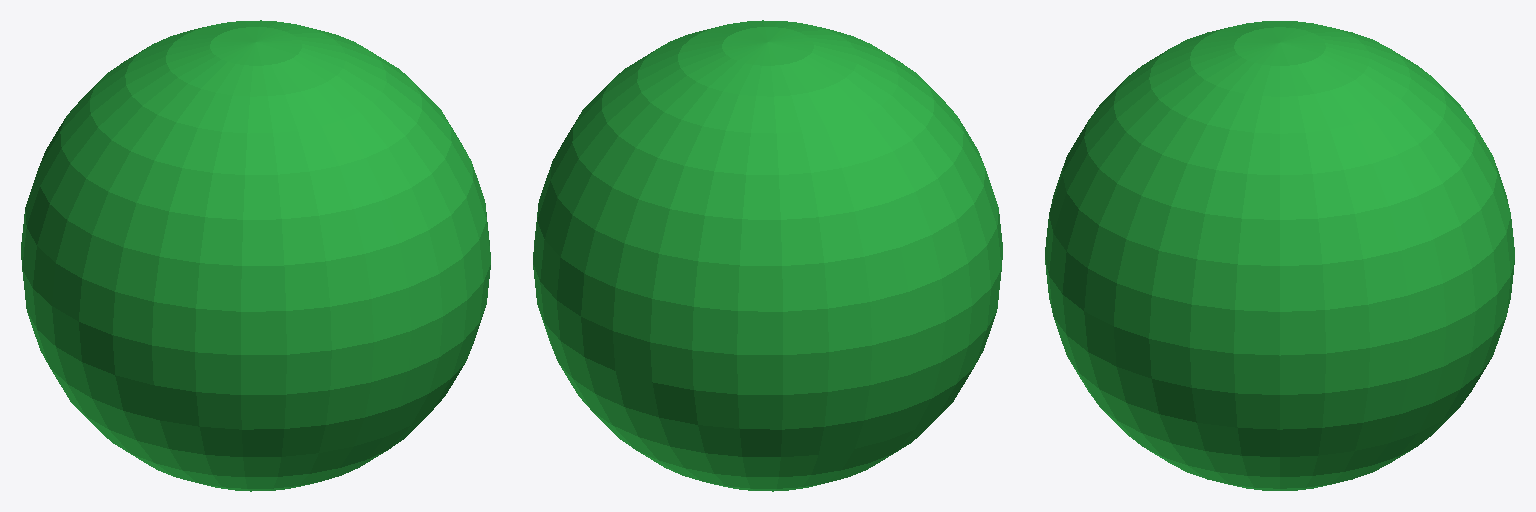
robot.urdf — ant:
<?xml version="0.0" ?>
<robot name="ant">
	<link name="torso">
		<inertial>
			<origin rpy="0.00000 -0.00000 0.00000" xyz="0.00000 0.00000 0.00000"/>
			<mass value="96.77605"/>
			<inertia ixx="5.70827" ixy="0" ixz="0" iyy="5.70827" iyz="0" izz="7.35187"/>
		</inertial>
		
		<visual>
			<origin rpy="0.00000 -0.00000 0.00000" xyz="0.00000 0.00000 0.00000"/>
			<geometry>
				<sphere radius="0.25000"/>
			</geometry>
			<material name="white">
        <color rgba="0.23 0.72 0.32 1"/>
      </material>
		</visual>
		
		
		<collision>
			<origin rpy="0.00000 -0.00000 0.00000" xyz="0.00000 0.00000 0.00000"/>
			<geometry>
				<sphere radius="0.25000"/>
			</geometry>
		</collision>
	
	</link>
	<link name="link0_3">
		<inertial>
			<origin rpy="0.00000 -0.00000 0.00000" xyz="0.10000 0.10000 0.00000"/>
			<mass value="7.83155"/>
			<inertia ixx="0.18134" ixy="0" ixz="0" iyy="0.18134" iyz="0" izz="0.29467"/>
		</inertial>
		<collision>
			<origin rpy="-1.57080 0.78540 -0.78540" xyz="0.10000 0.10000 0.00000"/>
			<geometry>
				<capsule length="0.28284" radius="0.08000"/>
			</geometry>
		</collision>
		<visual>
			<origin rpy="-1.57080 0.78540 -0.78540" xyz="0.10000 0.10000 0.00000"/>
			<geometry>
				<capsule length="0.28284" radius="0.08000"/>
			</geometry>
		</visual>
	</link>
	<link name="link0_5">
		<inertial>
			<origin rpy="0.00000 -0.00000 0.00000" xyz="0.20000 0.20000 0.00000"/>
			<mass value="13.51844"/>
			<inertia ixx="0.57220" ixy="0" ixz="0" iyy="0.57220" iyz="0" izz="1.02698"/>
		</inertial>
		<visual>
			<origin rpy="-1.57080 0.78540 -0.78540" xyz="0.20000 0.20000 0.00000"/>
			<geometry>
				<capsule length="0.56569" radius="0.08000"/>
			</geometry>
		</visual>
		<collision>
			<origin rpy="-1.57080 0.78540 -0.78540" xyz="0.20000 0.20000 0.00000"/>
			<geometry>
				<capsule length="0.56569" radius="0.08000"/>
			</geometry>
		</collision>
	</link>
	<link name="link0_18">
		<inertial>
			<origin rpy="0.00000 -0.00000 0.00000" xyz="0.10000 -0.10000 0.00000"/>
			<mass value="7.83155"/>
			<inertia ixx="0.18134" ixy="0" ixz="0" iyy="0.18134" iyz="0" izz="0.29467"/>
		</inertial>
		<collision>
			<origin rpy="1.57080 0.78540 0.78540" xyz="0.10000 -0.10000 0.00000"/>
			<geometry>
				<capsule length="0.28284" radius="0.08000"/>
			</geometry>
		</collision>
		<visual>
			<origin rpy="1.57080 0.78540 0.78540" xyz="0.10000 -0.10000 0.00000"/>
			<geometry>
				<capsule length="0.28284" radius="0.08000"/>
			</geometry>
		</visual>
	</link>
	<link name="link0_20">
		<inertial>
			<origin rpy="0.00000 -0.00000 0.00000" xyz="0.20000 -0.20000 0.00000"/>
			<mass value="13.51844"/>
			<inertia ixx="0.57220" ixy="0" ixz="0" iyy="0.57220" iyz="0" izz="1.02698"/>
		</inertial>
		<collision>
			<origin rpy="1.57080 0.78540 0.78540" xyz="0.20000 -0.20000 0.00000"/>
			<geometry>
				<capsule length="0.56569" radius="0.08000"/>
			</geometry>
		</collision>
		<visual>
			<origin rpy="1.57080 0.78540 0.78540" xyz="0.20000 -0.20000 0.00000"/>
			<geometry>
				<capsule length="0.56569" radius="0.08000"/>
			</geometry>
		</visual>
	</link>
	<link name="link0_8">
		<inertial>
			<origin rpy="0.00000 -0.00000 0.00000" xyz="-0.10000 0.10000 0.00000"/>
			<mass value="7.83155"/>
			<inertia ixx="0.18134" ixy="0" ixz="0" iyy="0.18134" iyz="0" izz="0.29467"/>
		</inertial>
		<collision>
			<origin rpy="-1.57080 -0.78540 0.78540" xyz="-0.10000 0.10000 0.00000"/>
			<geometry>
				<capsule length="0.28284" radius="0.08000"/>
			</geometry>
		</collision>
			<visual>
			<origin rpy="-1.57080 -0.78540 0.78540" xyz="-0.10000 0.10000 0.00000"/>
			<geometry>
				<capsule length="0.28284" radius="0.08000"/>
			</geometry>
		</visual>
	</link>
	<link name="link0_10">
		<inertial>
			<origin rpy="0.00000 -0.00000 0.00000" xyz="-0.20000 0.20000 0.00000"/>
			<mass value="13.51844"/>
			<inertia ixx="0.57220" ixy="0" ixz="0" iyy="0.57220" iyz="0" izz="1.02698"/>
		</inertial>
      <visual>
			<origin rpy="-1.57080 -0.78540 0.78540" xyz="-0.20000 0.20000 0.00000"/>
			<geometry>
				<capsule length="0.56569" radius="0.08000"/>
			</geometry>
		</visual>
		<collision>
			<origin rpy="-1.57080 -0.78540 0.78540" xyz="-0.20000 0.20000 0.00000"/>
			<geometry>
				<capsule length="0.56569" radius="0.08000"/>
			</geometry>
		</collision>
	</link>
	<link name="link0_13">
		<inertial>
			<origin rpy="0.00000 -0.00000 0.00000" xyz="-0.10000 -0.10000 0.00000"/>
			<mass value="7.83155"/>
			<inertia ixx="0.18134" ixy="0" ixz="0" iyy="0.18134" iyz="0" izz="0.29467"/>
		</inertial>
		<visual>
			<origin rpy="1.57080 -0.78540 -0.78540" xyz="-0.10000 -0.10000 0.00000"/>
			<geometry>
				<capsule length="0.28284" radius="0.08000"/>
			</geometry>
		</visual>
		<collision>
			<origin rpy="1.57080 -0.78540 -0.78540" xyz="-0.10000 -0.10000 0.00000"/>
			<geometry>
				<capsule length="0.28284" radius="0.08000"/>
			</geometry>
		</collision>
	</link>
	<link name="link0_15">
		<inertial>
			<origin rpy="0.00000 -0.00000 0.00000" xyz="-0.20000 -0.20000 0.00000"/>
			<mass value="13.51844"/>
			<inertia ixx="0.57220" ixy="0" ixz="0" iyy="0.57220" iyz="0" izz="1.02698"/>
		</inertial>
		<visual>
			<origin rpy="1.57080 -0.78540 -0.78540" xyz="-0.20000 -0.20000 0.00000"/>
			<geometry>
				<capsule length="0.56569" radius="0.08000"/>
			</geometry>
		</visual>
		<collision>
			<origin rpy="1.57080 -0.78540 -0.78540" xyz="-0.20000 -0.20000 0.00000"/>
			<geometry>
				<capsule length="0.56569" radius="0.08000"/>
			</geometry>
		</collision>
	</link>
	<joint name="hip_1" type="continuous">
		<parent link="torso"/>
		<child link="link0_3"/>
		<dynamics damping="1.0" friction="0.0001"/>
		<origin rpy="0.00000 -0.00000 0.00000" xyz="0.20000 0.20000 0.00000"/>
		
		<axis xyz="0.00000 0.00000 1.00000"/>
	</joint>
	<joint name="ankle_1" type="continuous">
		<parent link="link0_3"/>
		<child link="link0_5"/>
		<dynamics damping="1.0" friction="0.0001"/>
		<origin rpy="0.00000 -0.00000 0.00000" xyz="0.20000 0.20000 0.00000"/>
		
		
		<axis xyz="-1.00000 0.00000 0.00000"/>
	</joint>
	<joint name="hip_4" type="continuous">
		<parent link="torso"/>
		<child link="link0_18"/>
		<dynamics damping="1.0" friction="0.0001"/>
		<origin rpy="0.00000 -0.00000 0.00000" xyz="0.20000 -0.20000 0.00000"/>
		
		<axis xyz="0.00000 0.00000 1.00000"/>
	</joint>
	<joint name="ankle_4" type="continuous">
		<parent link="link0_18"/>
		<child link="link0_20"/>
		<dynamics damping="1.0" friction="0.0001"/>
		<origin rpy="0.00000 -0.00000 0.00000" xyz="0.20000 -0.20000 0.00000"/>
		
		
		<axis xyz="1.00000 0.00000 0.00000"/>
	</joint>
	<joint name="hip_2" type="continuous">
		<parent link="torso"/>
		<child link="link0_8"/>
		<dynamics damping="1.0" friction="0.0001"/>
		<origin rpy="0.00000 -0.00000 0.00000" xyz="-0.20000 0.20000 0.00000"/>
		
		<axis xyz="0.00000 0.00000 1.00000"/>
	</joint>
	<joint name="ankle_2" type="continuous">
		<parent link="link0_8"/>
		<child link="link0_10"/>
		<dynamics damping="1.0" friction="0.0001"/>
		<origin rpy="0.00000 -0.00000 0.00000" xyz="-0.20000 0.20000 0.00000"/>
		
		<axis xyz="-1.00000 0.00000 0.00000"/>
	</joint>
	<joint name="hip_3" type="continuous">
		<parent link="torso"/>
		<child link="link0_13"/>
		<dynamics damping="1.0" friction="0.0001"/>
		<origin rpy="0.00000 -0.00000 0.00000" xyz="-0.20000 -0.20000 0.00000"/>

		<axis xyz="0.00000 0.00000 1.00000"/>
	</joint>
	<joint name="ankle_3" type="continuous">
		<parent link="link0_13"/>
		<child link="link0_15"/>
		<dynamics damping="1.0" friction="0.0001"/>
		<origin rpy="0.00000 -0.00000 0.00000" xyz="-0.20000 -0.20000 0.00000"/>
		
		<axis xyz="1.00000 0.00000 0.00000"/>
	</joint>
</robot>

--- What the picture shows (computed from the rendered views, not written in the file) ---
3 views of the same robot in one strip: view 1: azimuth 30°, elevation 25°; view 2: azimuth 150°, elevation 25°; view 3: azimuth 270°, elevation 25° (orthographic).
Robot: ant — 9 links, 8 joints (8 continuous); root link torso; default pose: every joint at zero.
Links seen in each view (by area): view 1: torso; view 2: torso; view 3: torso.
Link boxes in pixels (x1,y1,x2,y2): torso: (21, 20, 490, 491); torso: (533, 20, 1002, 491); torso: (1045, 21, 1514, 490).
Bounding box of the posed robot: 0.5 × 0.5 × 0.5 m (x, y, z).
Geometry: primitives only (box / cylinder / sphere), no mesh files.